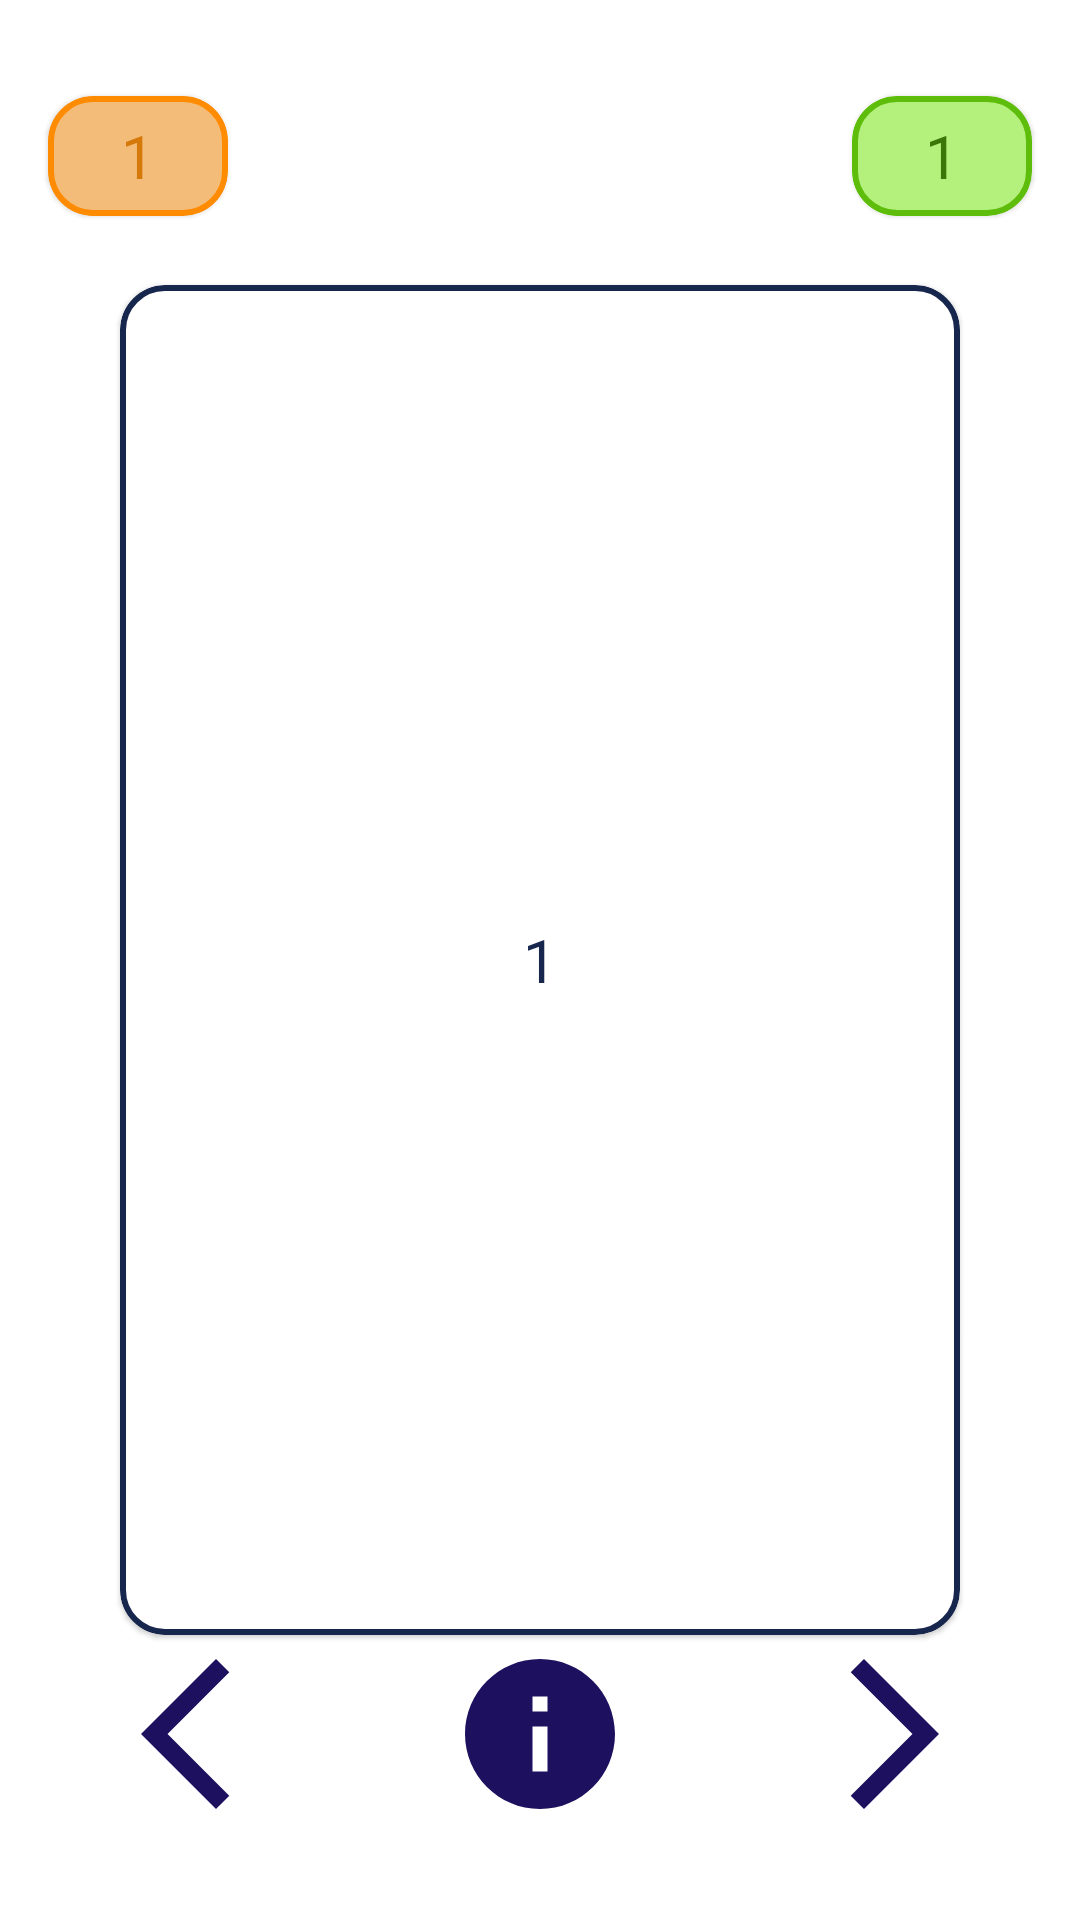

Where to tap for icons on this 1080*1920 app screen, as (x,y):
arrow back: (185,1734)
arrow forward: (895,1734)
info: (540,1734)
